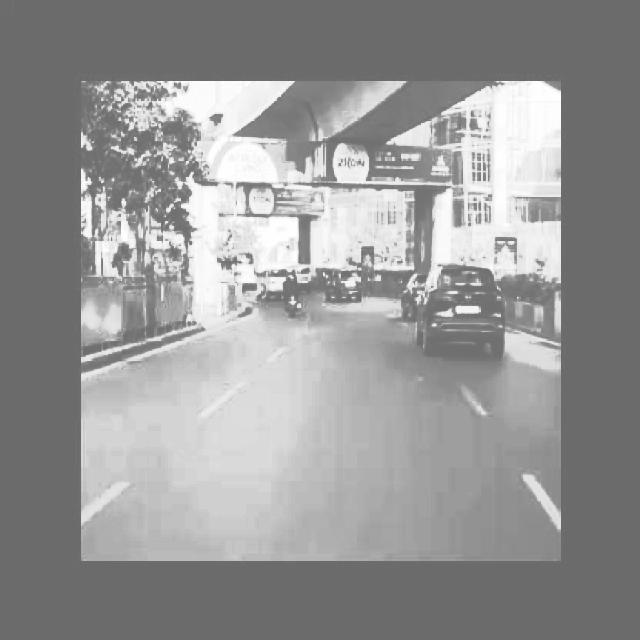Car: (418, 251, 511, 365), (323, 265, 368, 299), (262, 262, 294, 308), (298, 259, 320, 293)
